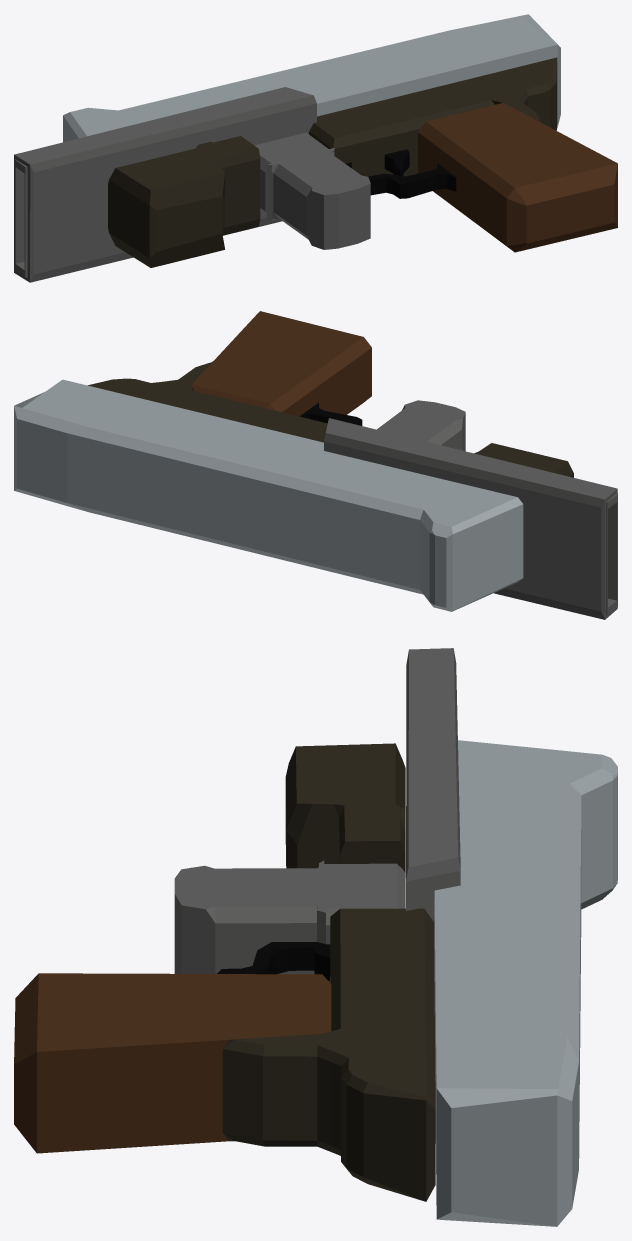
The model's file is Shuriken Gun.fbx.
3 renders of one model, top to bottom at view 1: azimuth 30°, elevation 25°; view 2: azimuth 150°, elevation 25°; view 3: azimuth 270°, elevation 25°, orthographic. The views are drawn at different scales.
Visible parts, largest first — view 1: Barrel, Grip, Slide, Frame 2, Frame 1, Magazine, Trigger Frame, Nozzle, Trigger; view 2: Slide, Barrel, Grip, Frame 1, Magazine, Frame 2, Nozzle, Trigger Frame; view 3: Slide, Grip, Frame 1, Magazine, Frame 2, Barrel, Trigger Frame.
Boxes of the visible parts, x1=… form: Barrel: x1=14, y1=87, x2=316, y2=282; Grip: x1=418, y1=103, x2=617, y2=252; Slide: x1=63, y1=14, x2=560, y2=142; Frame 2: x1=108, y1=136, x2=260, y2=267; Frame 1: x1=309, y1=57, x2=557, y2=176; Magazine: x1=254, y1=132, x2=370, y2=249; Trigger Frame: x1=345, y1=162, x2=456, y2=198; Nozzle: x1=15, y1=159, x2=27, y2=277; Trigger: x1=384, y1=149, x2=409, y2=175; Slide: x1=14, y1=379, x2=523, y2=611; Barrel: x1=324, y1=418, x2=617, y2=619; Grip: x1=192, y1=311, x2=371, y2=416; Frame 1: x1=87, y1=361, x2=327, y2=442; Magazine: x1=377, y1=400, x2=465, y2=451; Frame 2: x1=474, y1=443, x2=573, y2=477; Nozzle: x1=606, y1=494, x2=617, y2=614; Trigger Frame: x1=300, y1=402, x2=362, y2=425; Slide: x1=434, y1=740, x2=617, y2=1226; Grip: x1=14, y1=973, x2=331, y2=1153; Frame 1: x1=222, y1=908, x2=435, y2=1201; Magazine: x1=174, y1=860, x2=405, y2=982; Frame 2: x1=285, y1=743, x2=405, y2=877; Barrel: x1=406, y1=648, x2=460, y2=948; Trigger Frame: x1=217, y1=942, x2=330, y2=981.
Size of the model in its own units: 983 by 203 by 597.
